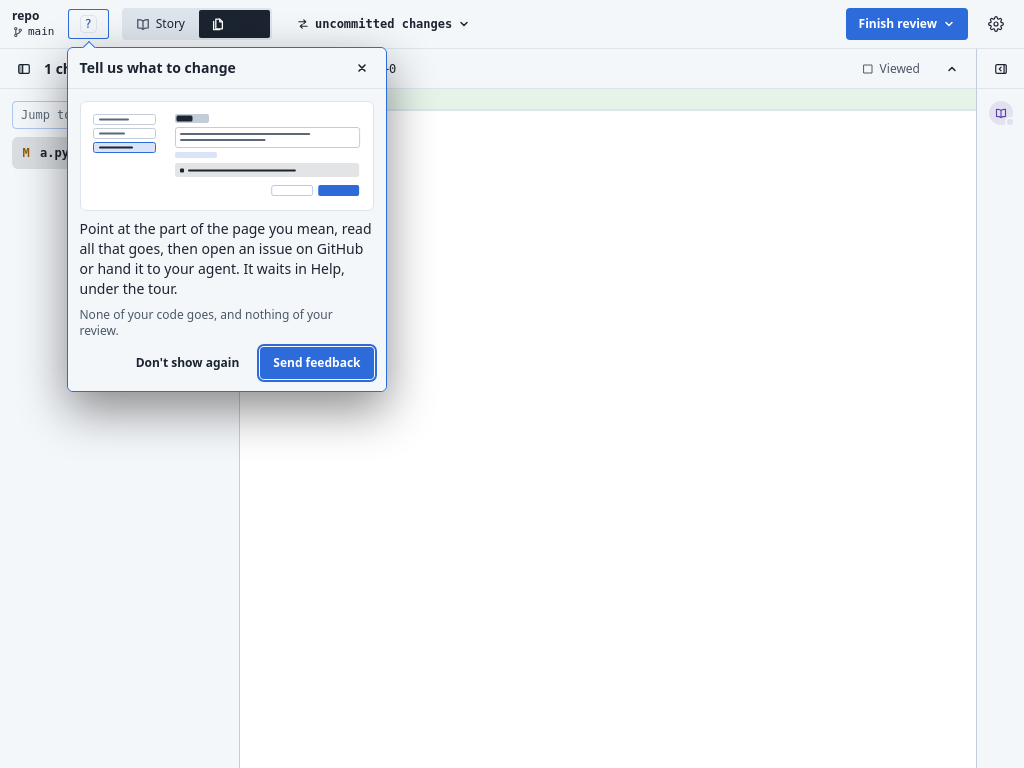
Test: Send feedback introduced under Help › is put away for this review by its cross, nothing kept, and the keyboard goes to Help
Click the button with test id "feedback-introduction-close".
click(362, 68)  # box [350,56,374,80]
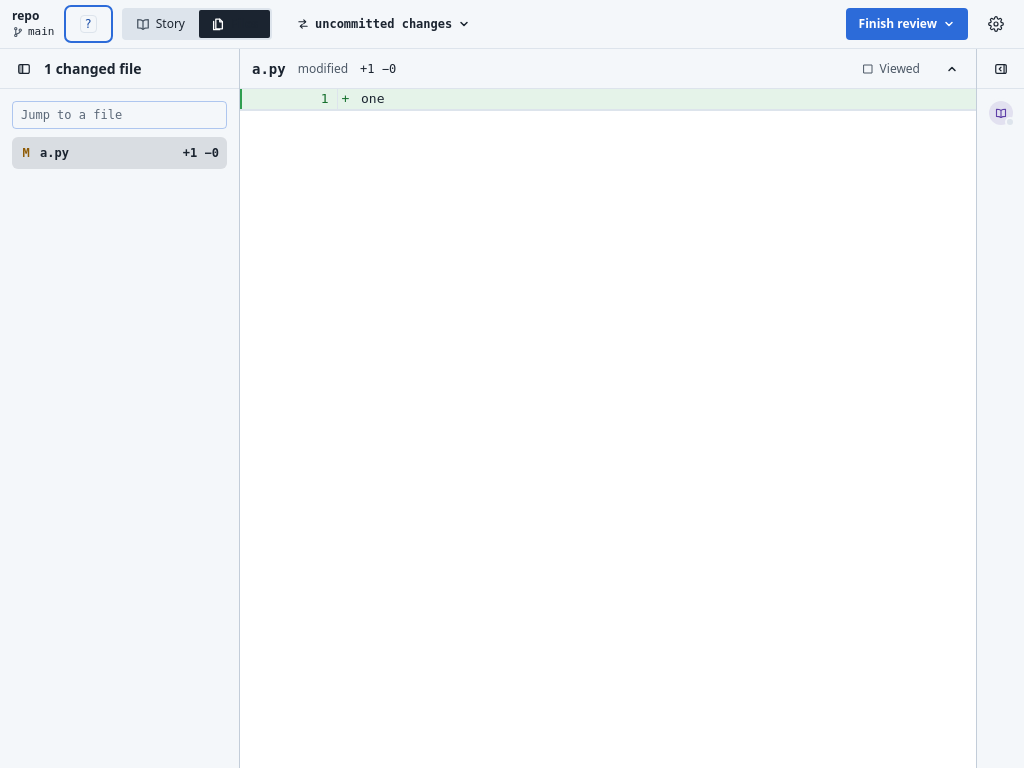
Expected: the dialog with test id "feedback-introduction" is gone
